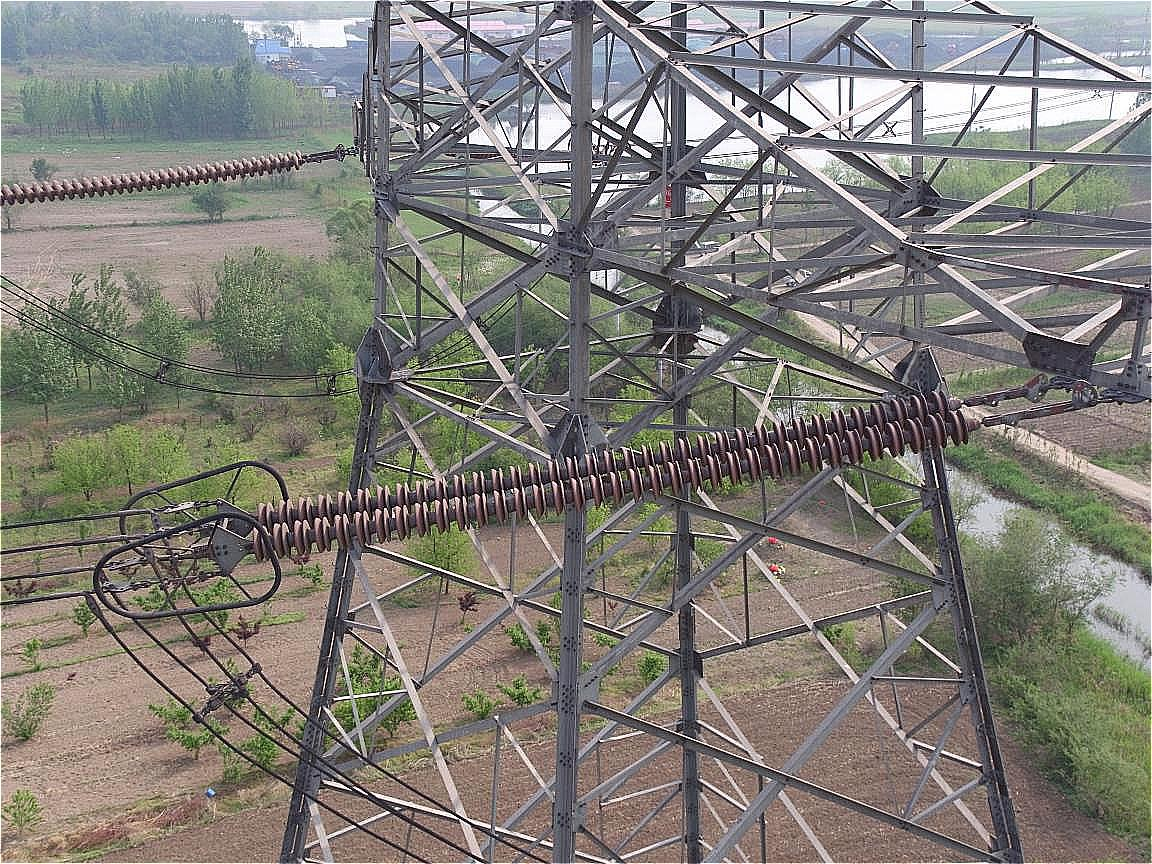insultor1: (1, 160, 311, 222)
insultor2: (177, 369, 986, 577)
